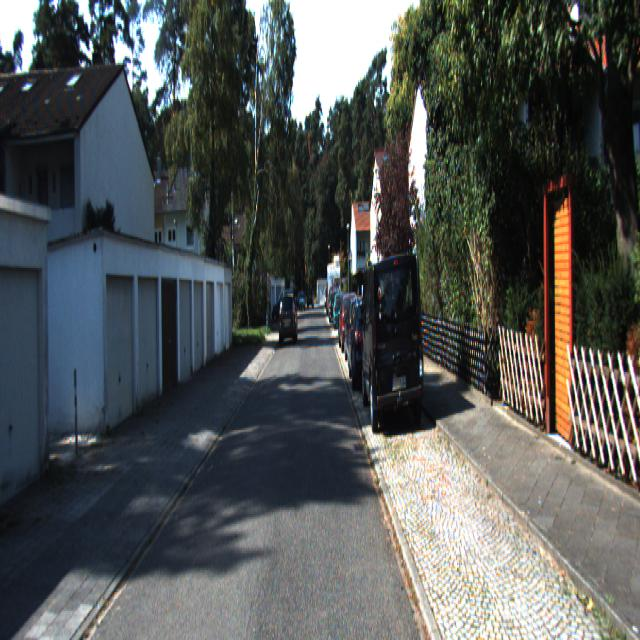Car: (358, 250, 423, 436), (278, 292, 298, 343), (327, 261, 341, 318)
